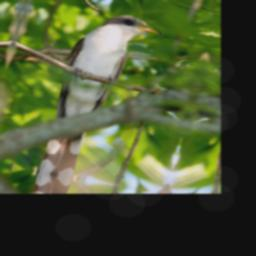Cuckoo: (32, 6, 168, 185)
